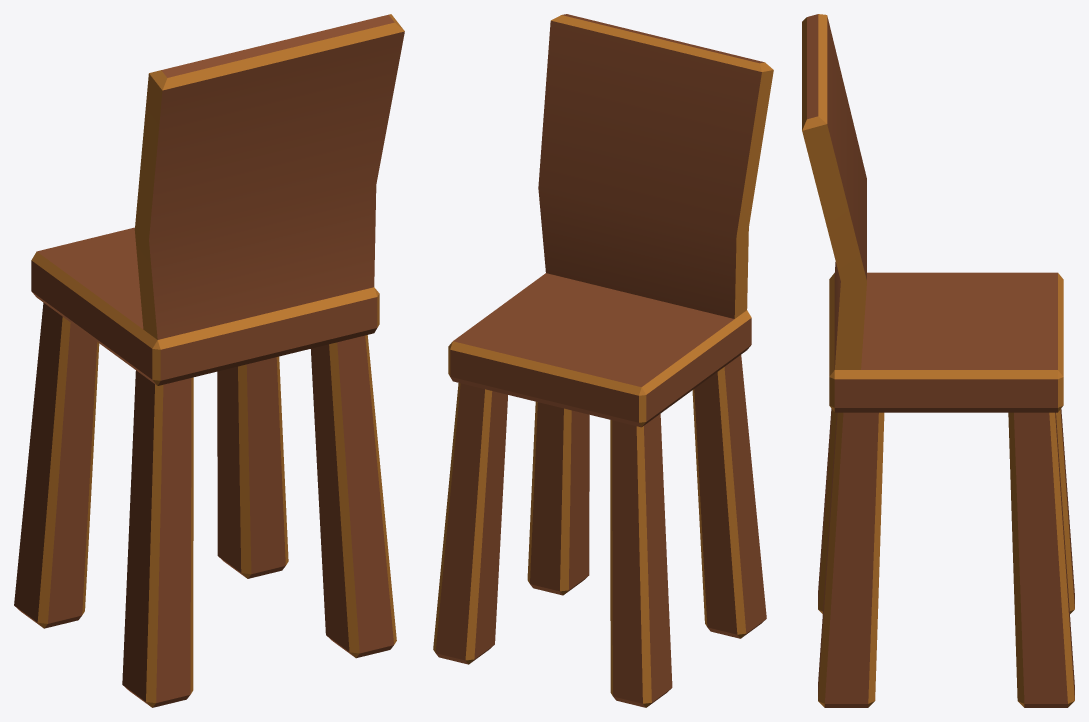
The model's file is ChairDinningRoom.fbx.
3 views of the same model, side by side, from view 1: azimuth 30°, elevation 25°; view 2: azimuth 150°, elevation 25°; view 3: azimuth 270°, elevation 25° (orthographic). The views are drawn at different scales.
Parts seen in each view (by area): view 1: ChairDinningRoom; view 2: ChairDinningRoom; view 3: ChairDinningRoom.
Part boxes in pixels (bbox=[...]): ChairDinningRoom: bbox=[14, 14, 404, 707]; ChairDinningRoom: bbox=[433, 14, 773, 707]; ChairDinningRoom: bbox=[802, 14, 1074, 707].
Bounding box in the file's own units: 38.21 × 92.98 × 39.01.
